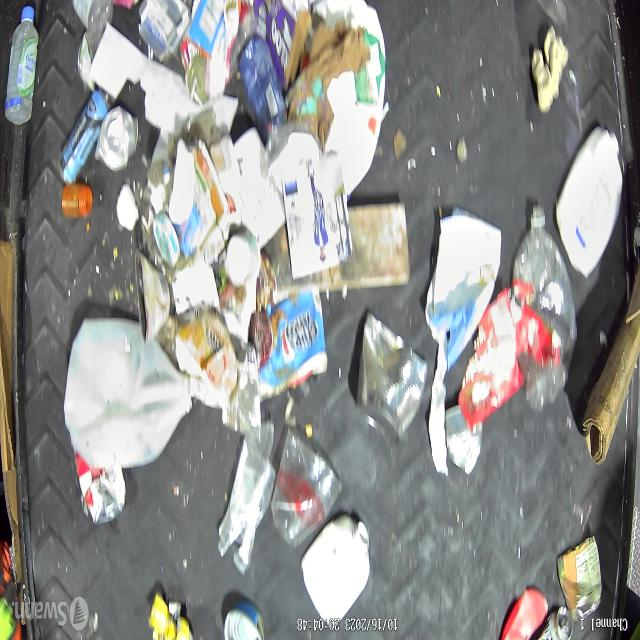can: (357, 312, 427, 447), (72, 450, 126, 526), (556, 534, 602, 622), (135, 248, 171, 345), (99, 106, 140, 171), (180, 36, 207, 108), (223, 599, 264, 640), (537, 606, 573, 640)
milk_jug: (62, 317, 192, 468), (554, 124, 624, 278)
plastic_bottle: (510, 206, 578, 413), (4, 4, 38, 126)
